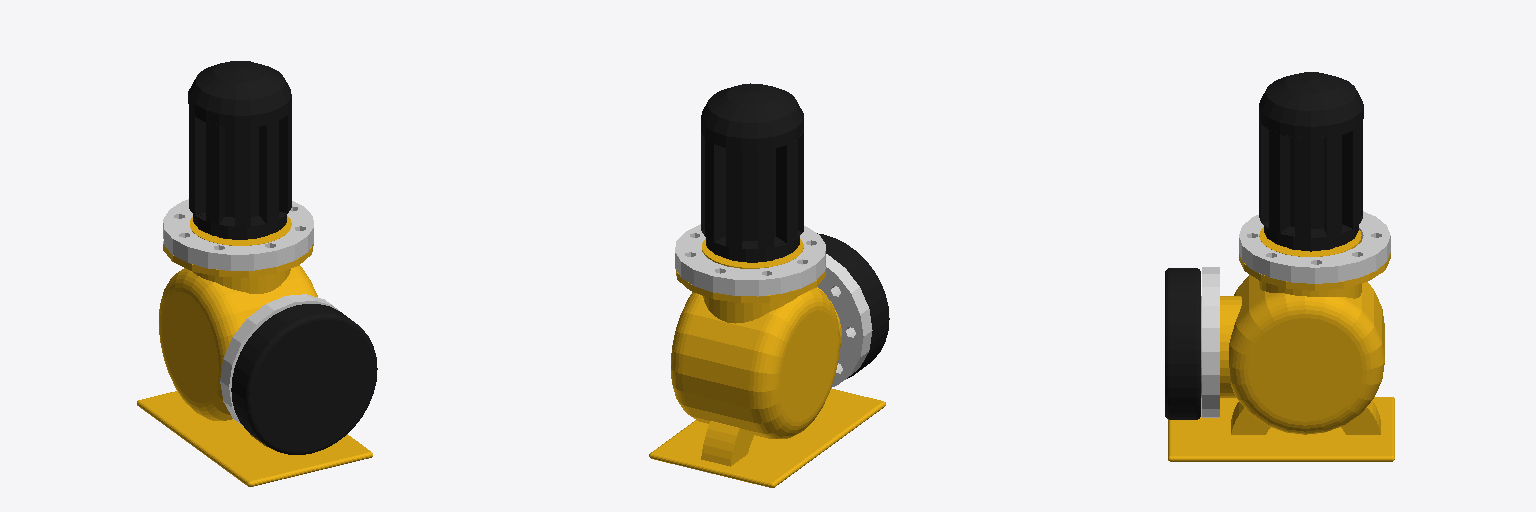
File: diaphragm_pump.obj
3 views of the same model, side by side, from view 1: azimuth 30°, elevation 25°; view 2: azimuth 150°, elevation 25°; view 3: azimuth 270°, elevation 25° (orthographic).
Parts seen in each view (by area): view 1: __.2, __, __.9, ___.11, __.1, __.4, __.8, __.3; view 2: __, __.2, __.9, ___.11, __.1, __.4, ___.4, __.8, __.3; view 3: __, __.2, __.9, ___.11, __.1, __.4, __.8, __.3, ___.4, ___.10.
Part boxes in pixels (left/top/right/bottom): __.2: left=163, top=199, right=377, bottom=454; __: left=159, top=265, right=317, bottom=420; __.9: left=189, top=108, right=291, bottom=226; ___.11: left=137, top=391, right=372, bottom=486; __.1: left=174, top=61, right=305, bottom=249; __.4: left=190, top=216, right=291, bottom=293; __.8: left=193, top=212, right=286, bottom=238; __.3: left=163, top=241, right=313, bottom=277; __: left=671, top=288, right=839, bottom=438; __.2: left=675, top=224, right=889, bottom=387; __.9: left=701, top=130, right=803, bottom=249; ___.11: left=649, top=388, right=885, bottom=487; __.1: left=685, top=83, right=855, bottom=373; __.4: left=702, top=238, right=803, bottom=323; ___.4: left=701, top=421, right=753, bottom=466; __.8: left=706, top=231, right=799, bottom=261; __.3: left=676, top=267, right=825, bottom=302; __: left=1229, top=274, right=1384, bottom=434; __.2: left=1165, top=211, right=1390, bottom=419; __.9: left=1259, top=119, right=1362, bottom=237; ___.11: left=1168, top=397, right=1394, bottom=461; __.1: left=1201, top=72, right=1381, bottom=397; __.4: left=1259, top=227, right=1361, bottom=298; __.8: left=1264, top=221, right=1358, bottom=250; __.3: left=1239, top=253, right=1390, bottom=290; ___.4: left=1341, top=400, right=1380, bottom=434; ___.10: left=1231, top=402, right=1270, bottom=434.
Size of the model in its own units: 95.33 by 244 by 144.